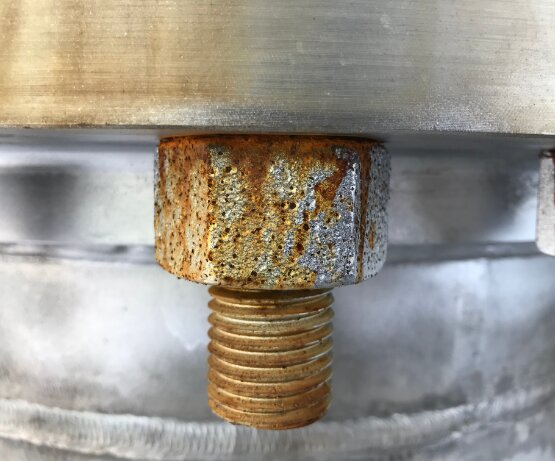Low: (137, 126, 394, 428)
